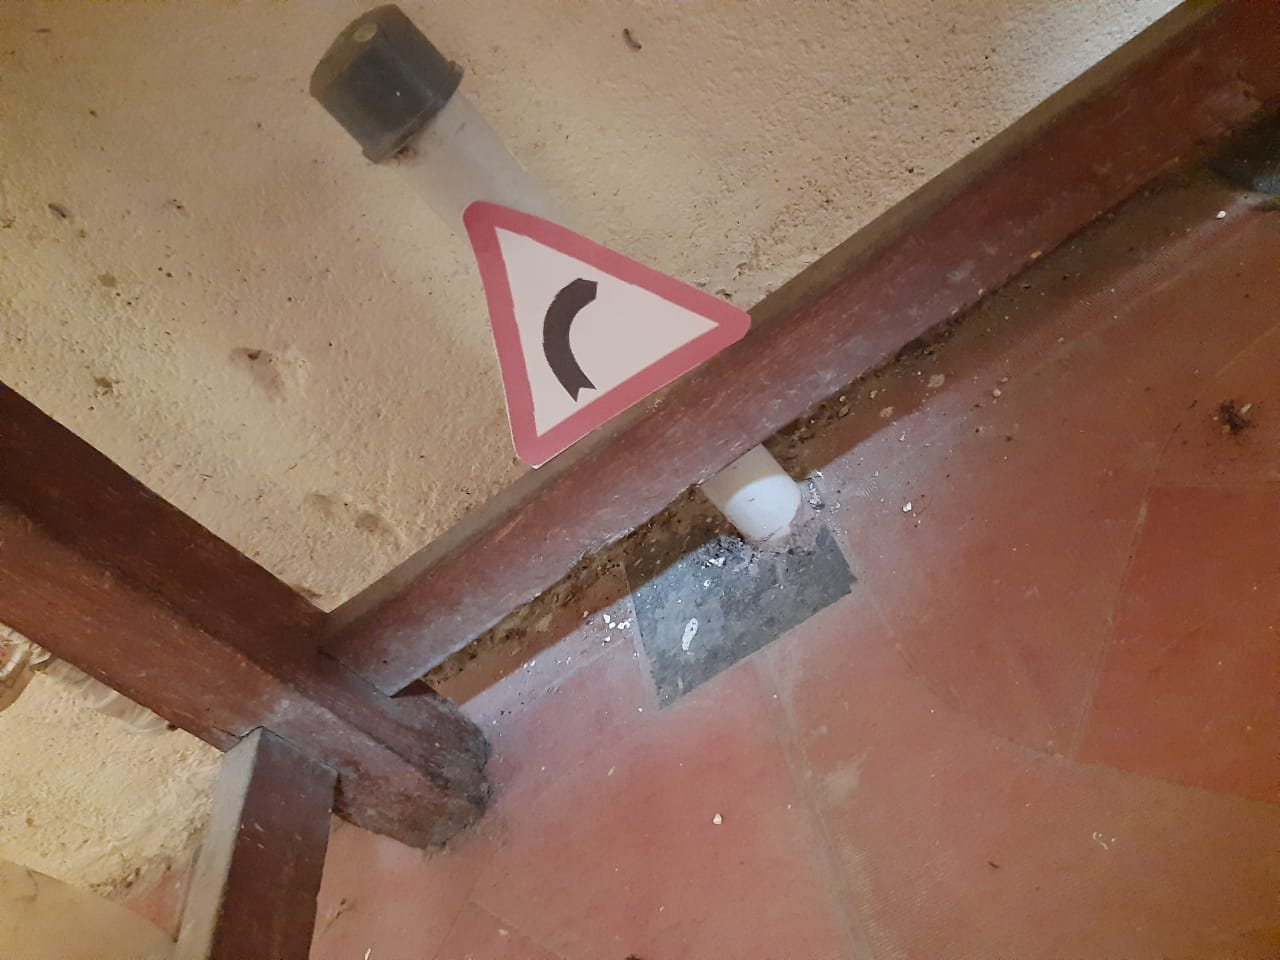RIGHT CURVE: (447, 191, 760, 469)
